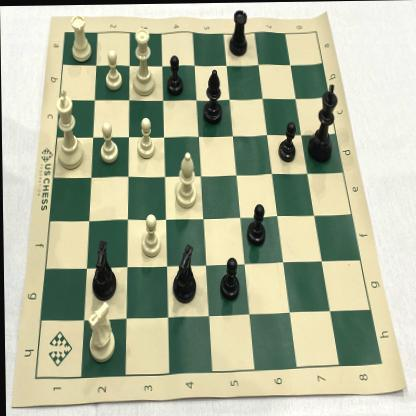black-bishop: (200, 64, 225, 127)
black-king: (305, 78, 341, 164)
black-knight: (86, 235, 117, 301), (169, 241, 198, 306)
black-pawn: (215, 252, 241, 304), (243, 201, 268, 250), (276, 117, 298, 165), (165, 48, 186, 97)
black-rook: (225, 4, 251, 59)
white-bishop: (172, 149, 198, 211)
white-king: (54, 86, 86, 171)
white-knight: (83, 297, 117, 365)
white-pawn: (137, 209, 162, 260), (133, 112, 157, 163), (102, 46, 124, 93), (99, 117, 119, 166)
white-queen: (131, 24, 157, 98)
white-rook: (67, 10, 95, 67)
